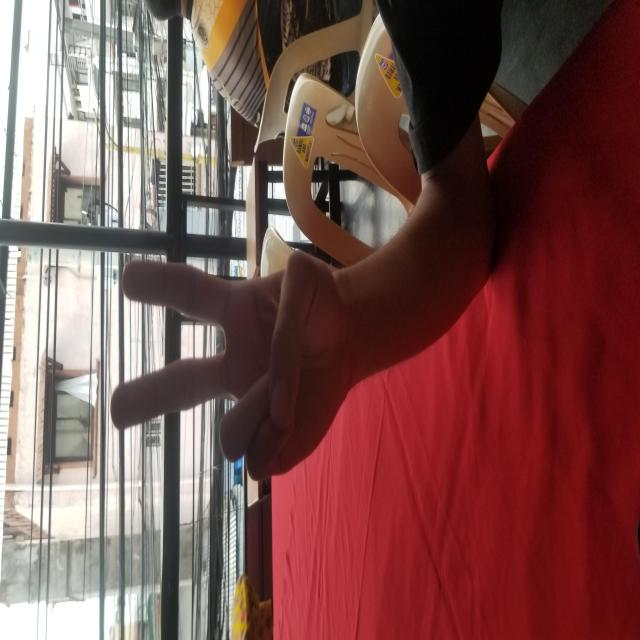V: (154, 108, 398, 352)
